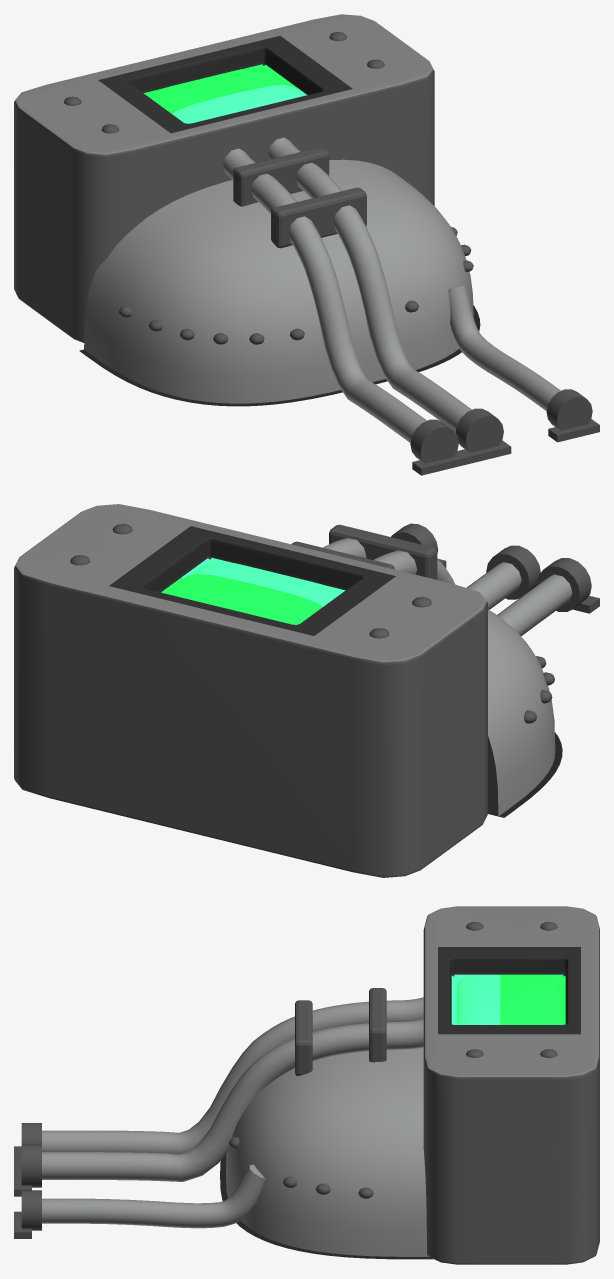
File: green_lamp_bunker_125.glb
The picture shows the model from 3 angles, top to bottom: view 1: azimuth 30°, elevation 25°; view 2: azimuth 150°, elevation 25°; view 3: azimuth 270°, elevation 25°; orthographic projection. The views are drawn at different scales.
Visible parts, largest first — view 1: head, shield, pipe0, pipe1, lens, pipe_side, strap1, strap0, flange0, flange1, flange2, foot0 (+1 smaller); view 2: head, shield, lens, pipe0, strap1, pipe1, flange0, flange1, flange2, strap0; view 3: head, shield, pipe1, pipe0, pipe_side, lens, strap1, strap0, flange1, flange2.
Part boxes in pixels (bbox=[...]): head: bbox=[14, 14, 434, 342]; shield: bbox=[79, 159, 480, 406]; pipe0: bbox=[223, 148, 426, 442]; pipe1: bbox=[268, 137, 471, 431]; lens: bbox=[147, 68, 304, 123]; pipe_side: bbox=[447, 284, 560, 410]; strap1: bbox=[271, 187, 366, 248]; strap0: bbox=[233, 147, 329, 206]; flange0: bbox=[410, 419, 458, 463]; flange1: bbox=[455, 408, 503, 452]; flange2: bbox=[546, 389, 592, 430]; foot0: bbox=[412, 451, 466, 475]; head: bbox=[14, 504, 487, 877]; shield: bbox=[488, 609, 562, 817]; lens: bbox=[164, 562, 341, 624]; pipe0: bbox=[374, 550, 572, 636]; strap1: bbox=[329, 524, 437, 579]; pipe1: bbox=[323, 538, 521, 609]; flange0: bbox=[537, 558, 591, 611]; flange1: bbox=[486, 545, 540, 599]; flange2: bbox=[391, 523, 437, 553]; strap0: bbox=[291, 541, 394, 569]; head: bbox=[423, 906, 599, 1264]; shield: bbox=[220, 1047, 433, 1259]; pipe1: bbox=[42, 1018, 423, 1181]; pipe0: bbox=[42, 997, 423, 1154]; pipe_side: bbox=[42, 1164, 265, 1228]; lens: bbox=[457, 974, 560, 1024]; strap1: bbox=[295, 1000, 312, 1075]; strap0: bbox=[369, 988, 386, 1062]; flange1: bbox=[21, 1144, 41, 1187]; flange2: bbox=[21, 1190, 41, 1230].
Bounding box in the file's own units: 16.18 × 8.36 × 22.95.
